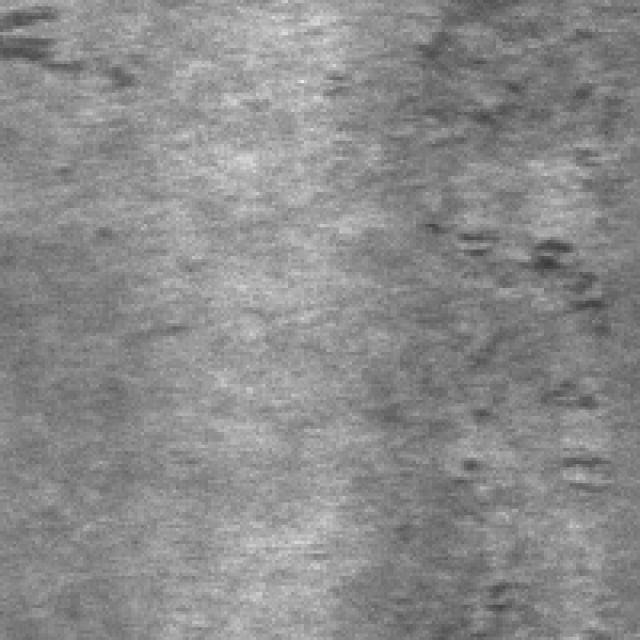rolled-in_scale: (396, 10, 634, 371), (362, 378, 502, 634), (310, 3, 534, 160), (0, 0, 141, 86)
